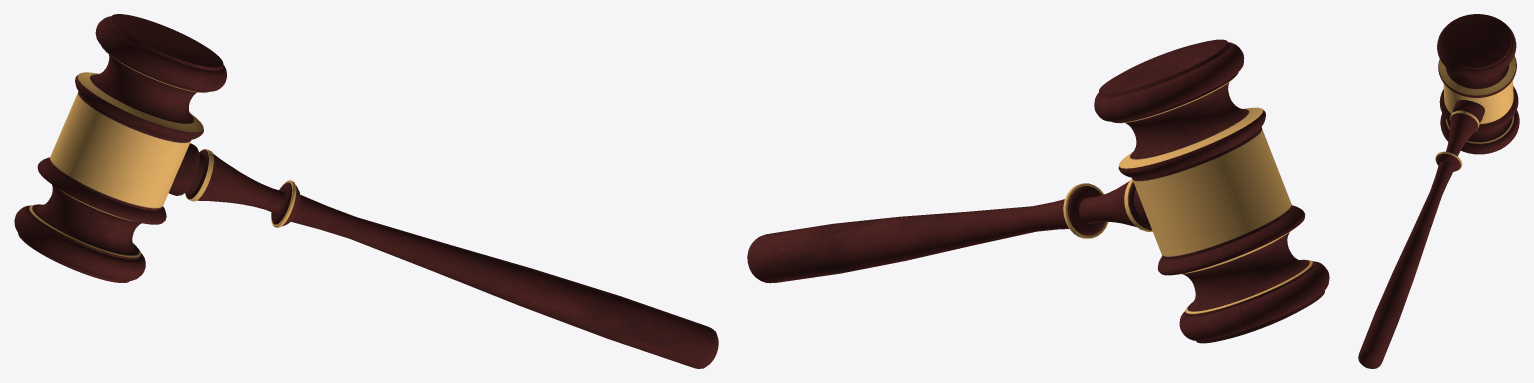
The model's file is judges_gavel.obj.
The picture shows the model from 3 angles, left to right: view 1: azimuth 30°, elevation 25°; view 2: azimuth 150°, elevation 25°; view 3: azimuth 270°, elevation 25°; orthographic projection. The views are drawn at different scales.
Visible parts, largest first — view 1: dynamic; view 2: dynamic; view 3: dynamic.
Part boxes in pixels (left/top/right/bottom): dynamic: left=14, top=14, right=718, bottom=368; dynamic: left=747, top=39, right=1329, bottom=343; dynamic: left=1358, top=14, right=1519, bottom=368.
Size of the model in its own units: 1.31 by 0.8151 by 0.542.
1 material, 1 textured.
